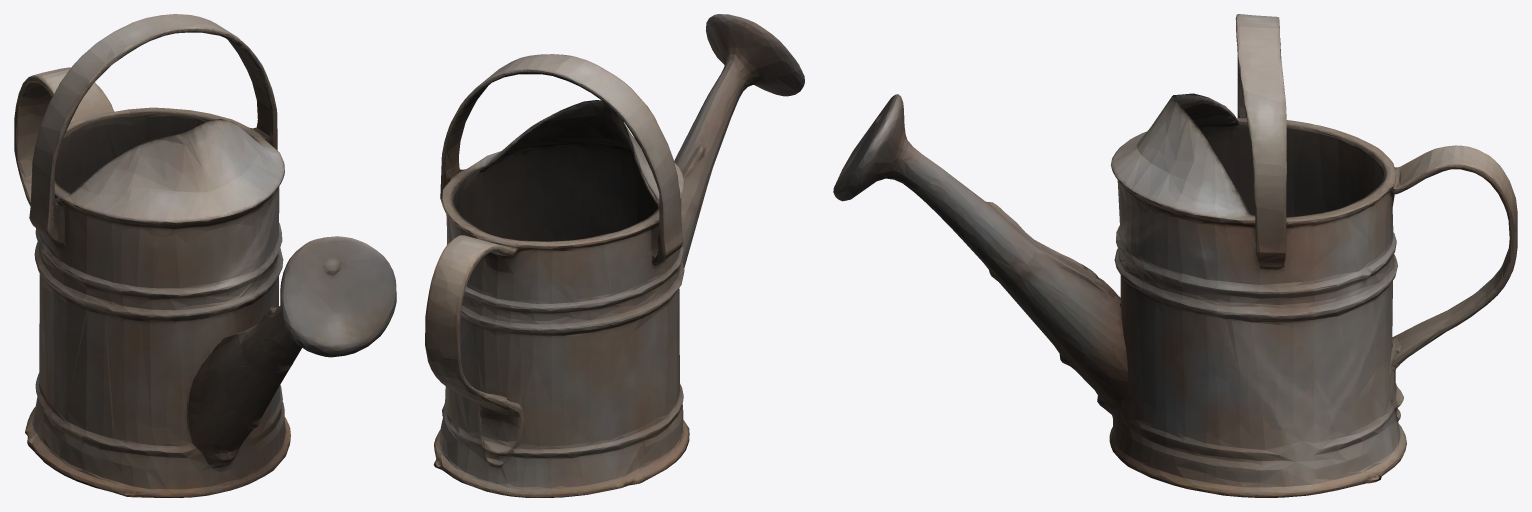
The model's file is watering_can_rusty.glb.
The picture shows the model from 3 angles, left to right: view 1: azimuth 30°, elevation 25°; view 2: azimuth 150°, elevation 25°; view 3: azimuth 270°, elevation 25°; orthographic projection. The views are drawn at different scales.
Visible parts, largest first — view 1: geometry_0; view 2: geometry_0; view 3: geometry_0.
Boxes of the visible parts, x1,y1,x2,y2 form: geometry_0: (14,14,396,497); geometry_0: (425,14,804,497); geometry_0: (833,14,1517,497).
Bounding box in the file's own units: 0.4091 × 0.6712 × 0.9977.
1 material, 1 textured.
